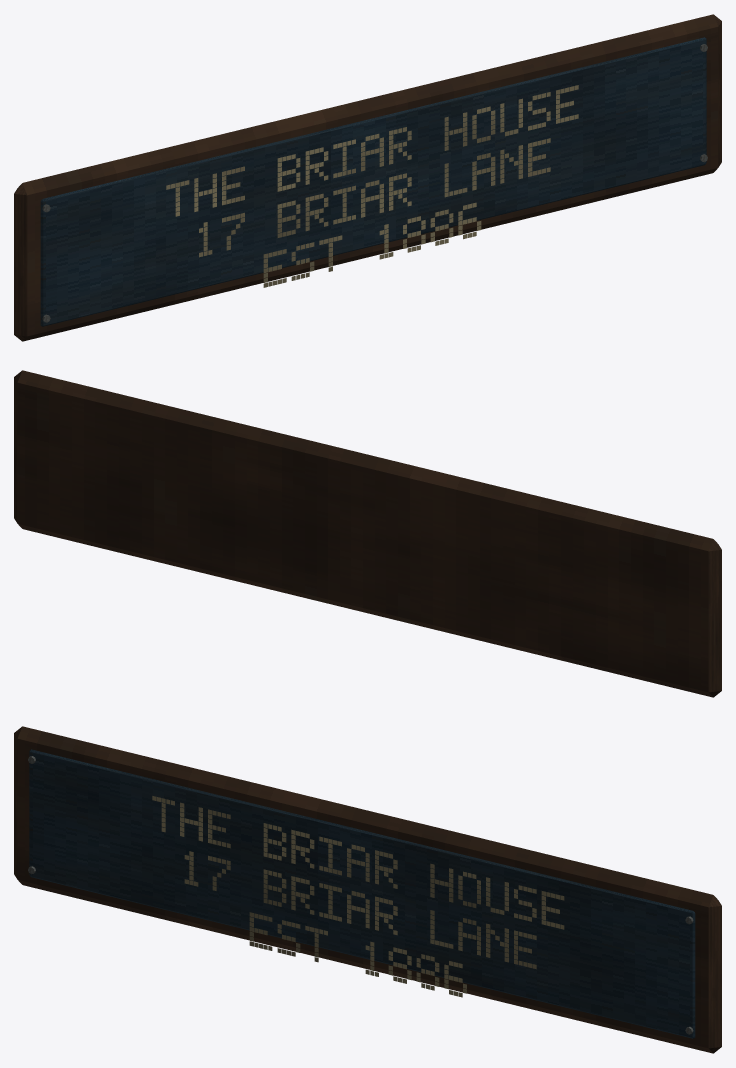
The model's file is level_sign_house_worn.glb.
3 views of the same model, one above another, from view 1: azimuth 30°, elevation 25°; view 2: azimuth 150°, elevation 25°; view 3: azimuth 330°, elevation 25° (orthographic).
Parts seen in each view (by area): view 1: level_sign_house_worn; view 2: level_sign_house_worn; view 3: level_sign_house_worn.
Boxes of the visible parts, x1=… form: level_sign_house_worn: x1=14, y1=14, x2=721, y2=341; level_sign_house_worn: x1=14, y1=370, x2=721, y2=697; level_sign_house_worn: x1=14, y1=726, x2=721, y2=1053.
Bounding box in the file's own units: 1.68 × 0.36 × 0.053.
4 materials, 4 textured.
